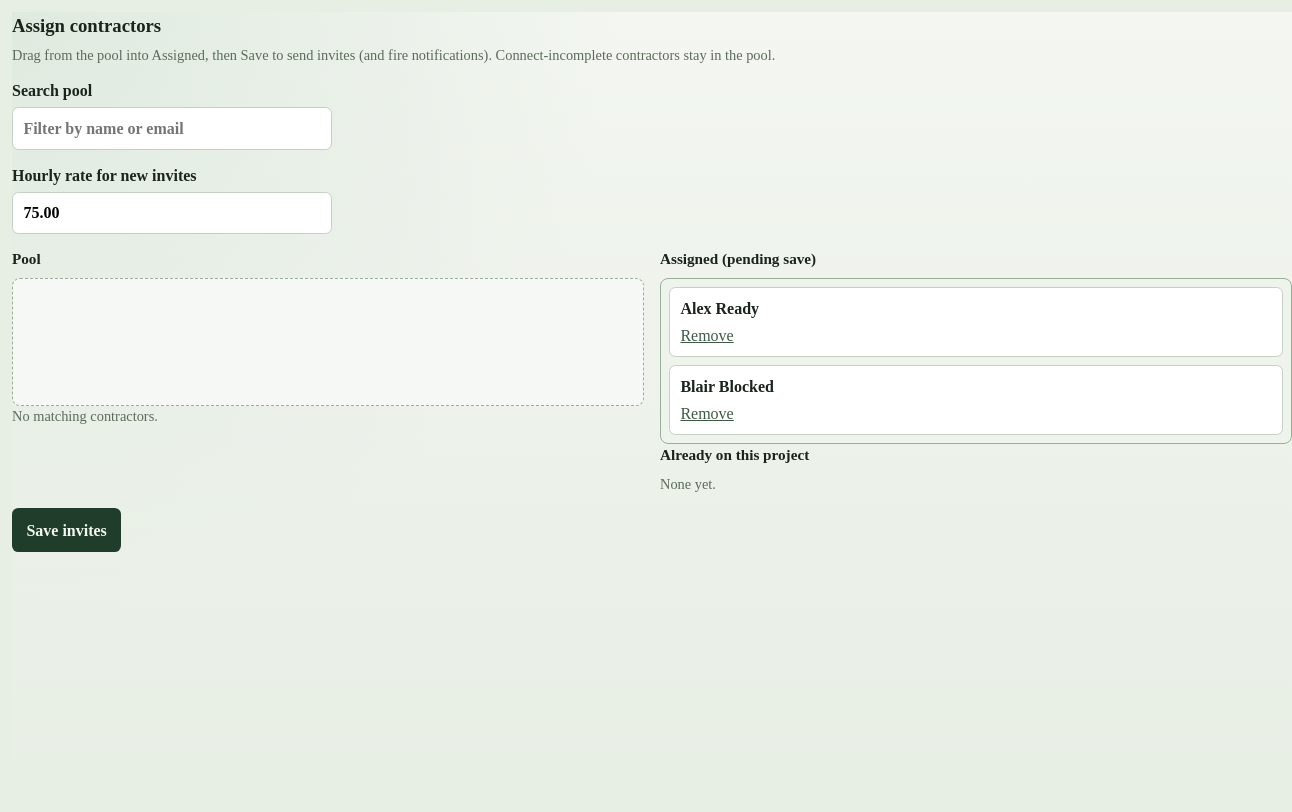
Test case: DragAssignBoard › saves pending invites and rolls back failures
This screenshot has width=1292, height=812.
Step 1. Click the button with test id "save-assignments" → (67, 530), box [12,508,121,552]
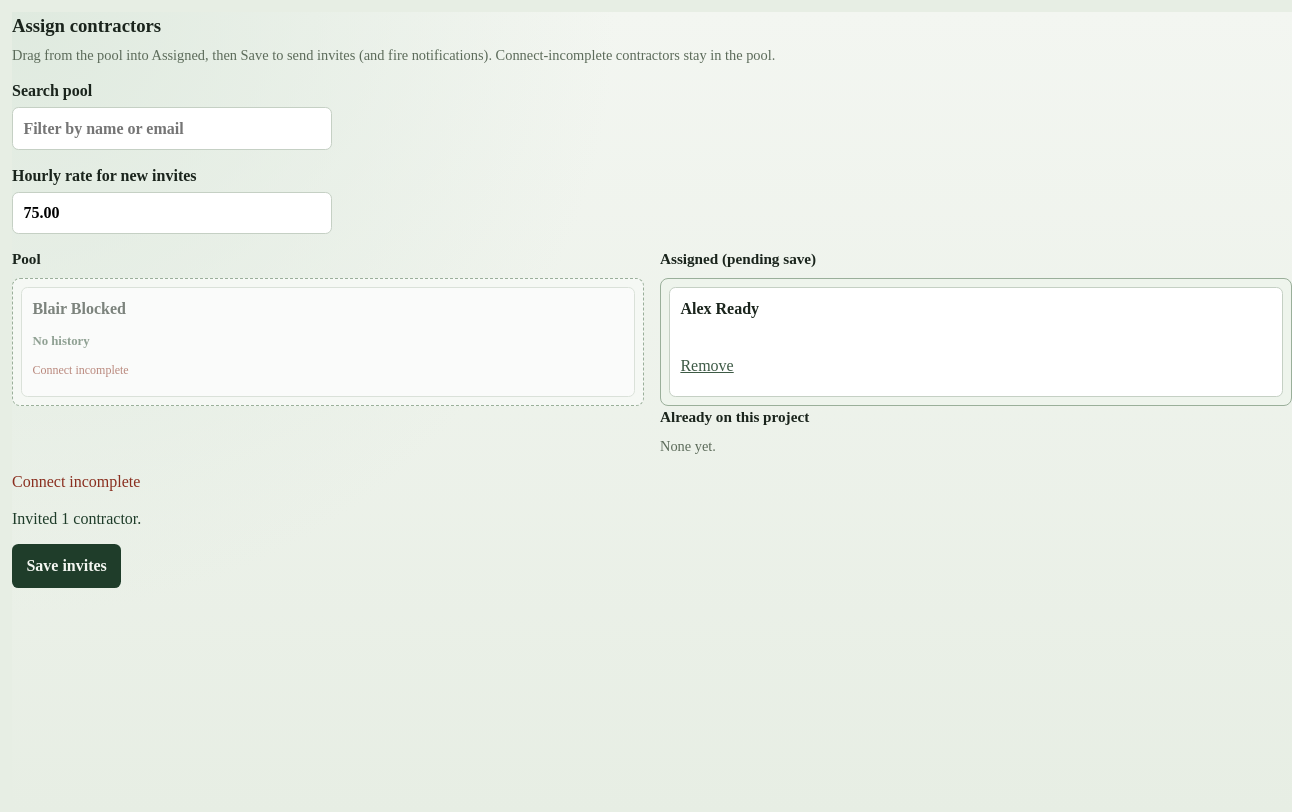
Result: the text with test id "board-error" reads "Connect incomplete" at [12,474,140,490]
